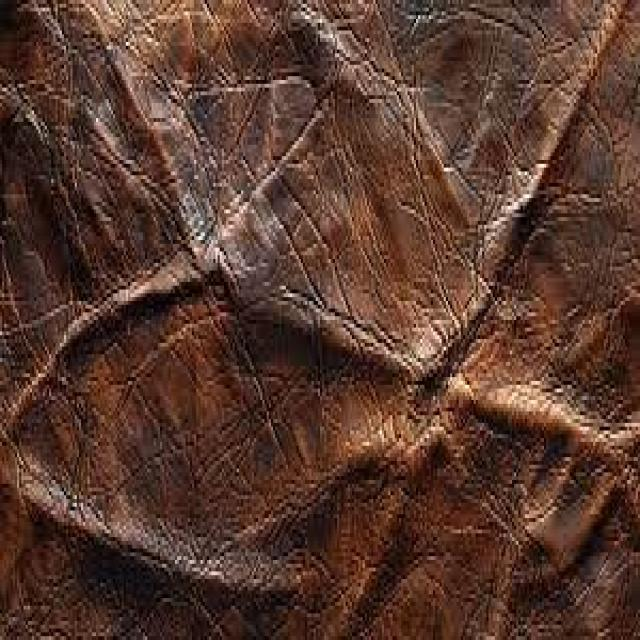Crease: (228, 249, 424, 477), (460, 332, 623, 595), (53, 484, 266, 606)
